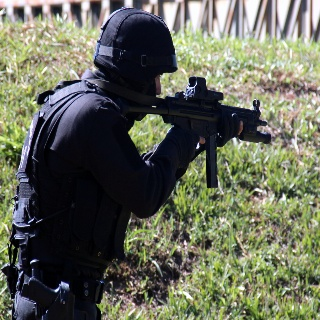rifle: (119, 74, 273, 188)
